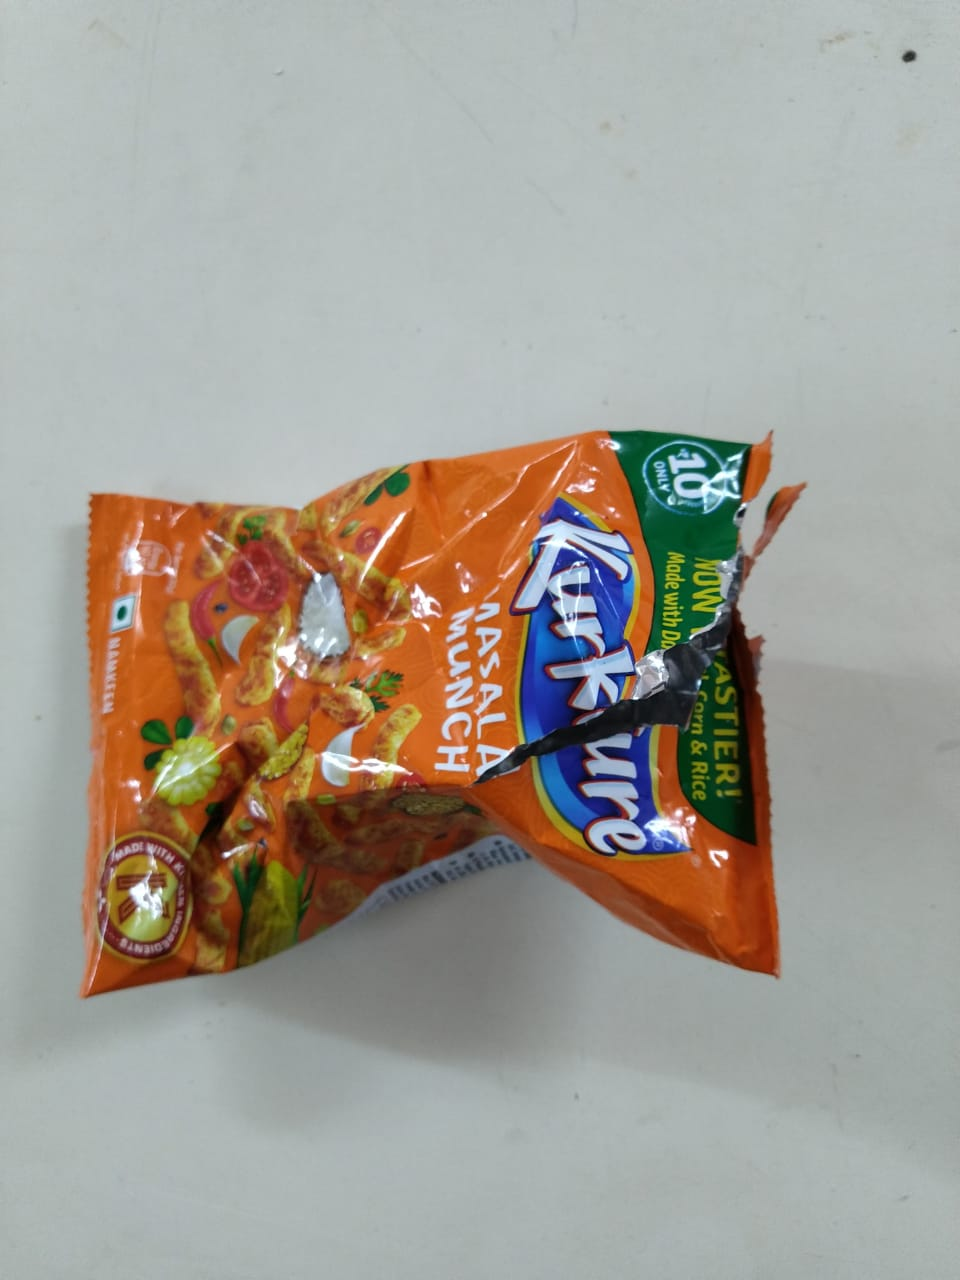kurkure: (500, 465, 700, 890), (504, 489, 696, 755), (514, 676, 716, 874), (545, 594, 702, 831)
plastic: (80, 424, 808, 1019)
wrapper: (72, 434, 806, 996)
